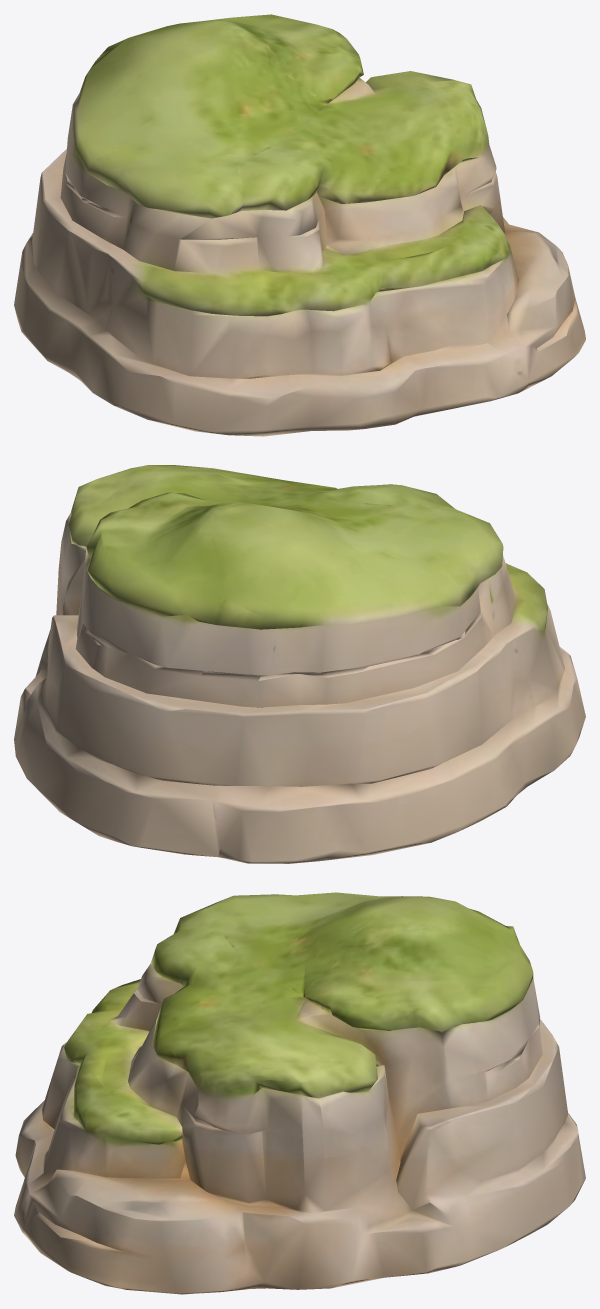
The model's file is toy-hill-mobile.glb.
3 renders of one model, top to bottom at view 1: azimuth 30°, elevation 25°; view 2: azimuth 150°, elevation 25°; view 3: azimuth 270°, elevation 25°, orthographic. The views are drawn at different scales.
Visible parts, largest first — view 1: model; view 2: model; view 3: model.
Boxes of the visible parts, x1,y1,x2,y2 form: model: (14, 14, 585, 436); model: (14, 465, 585, 863); model: (14, 892, 585, 1294).
Bounding box in the file's own units: 1.76 × 0.9476 × 1.9.
Materials: 1 (1 with a texture image).
